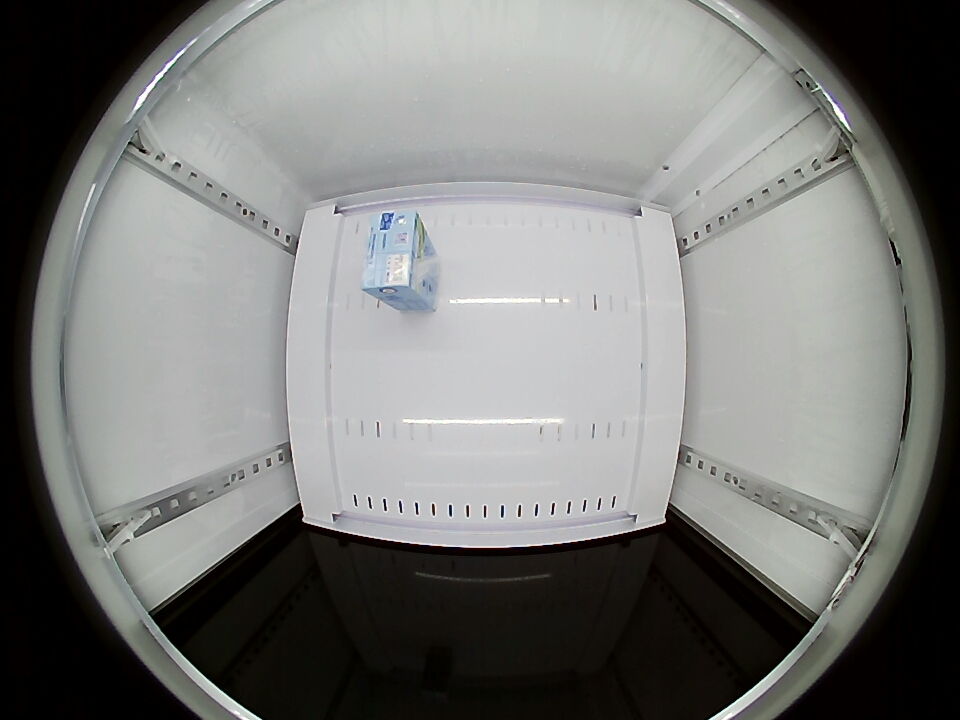weitanaiditang: (362, 210, 430, 303)
